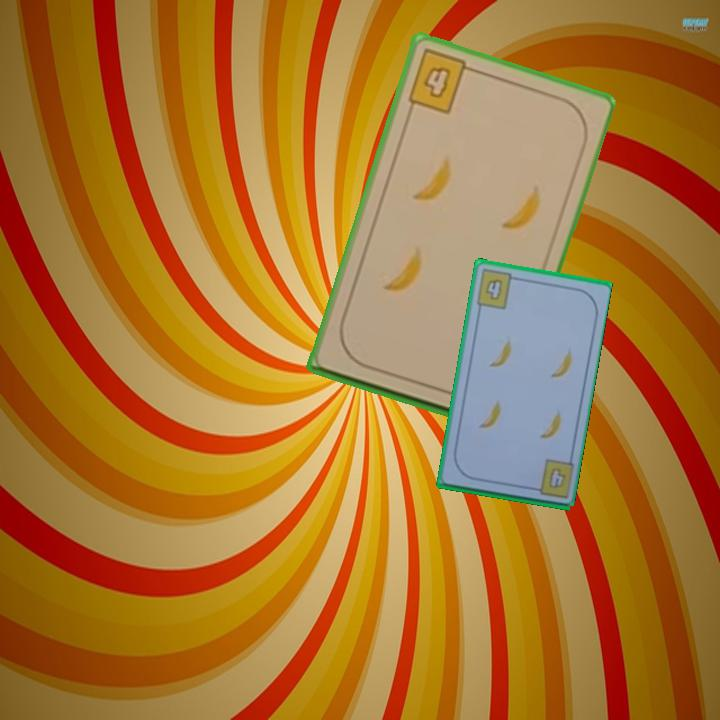4b: (404, 45, 479, 117), (472, 266, 521, 312), (544, 464, 568, 491)
